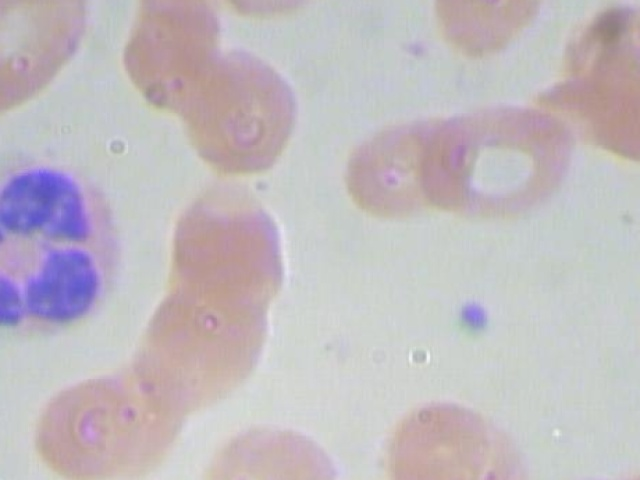Platelets: (438, 296, 517, 344)
RBC: (161, 34, 326, 187), (114, 272, 284, 417), (142, 177, 312, 321), (19, 346, 190, 480), (416, 102, 586, 225), (332, 110, 472, 225), (369, 393, 539, 480), (530, 66, 640, 183), (182, 405, 353, 480), (121, 0, 236, 111), (0, 0, 106, 115), (545, 0, 640, 119), (412, 0, 560, 64), (209, 0, 336, 20), (0, 13, 7, 169)
WBC: (0, 158, 140, 341)
